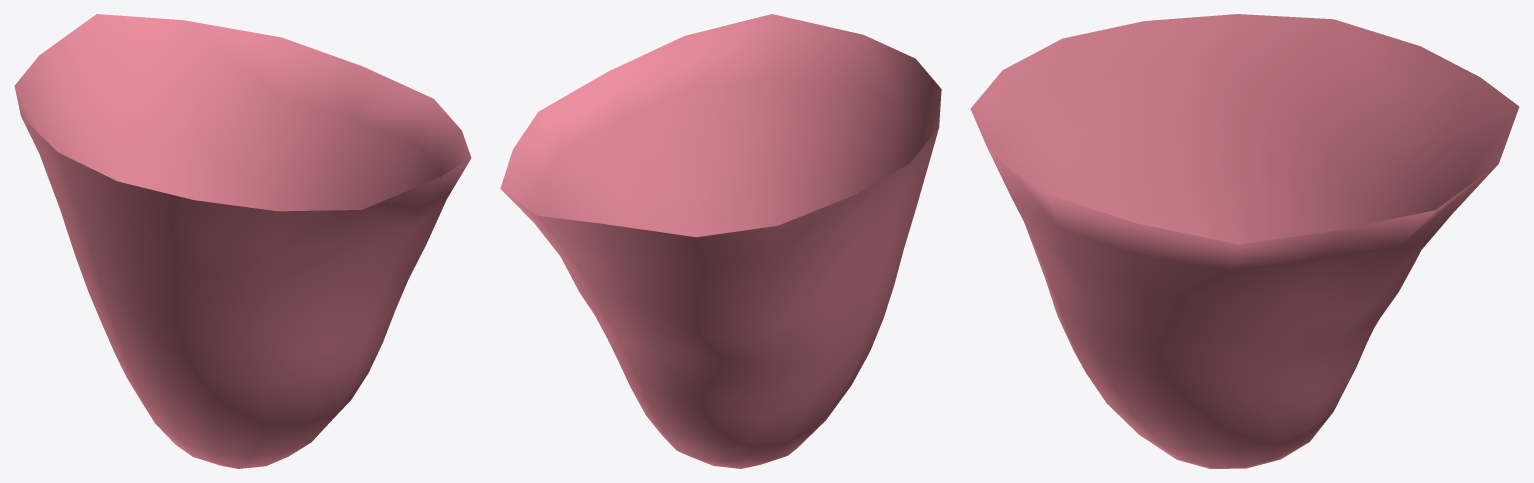
File: piederpat.obj
The picture shows the model from 3 angles, left to right: view 1: azimuth 30°, elevation 25°; view 2: azimuth 150°, elevation 25°; view 3: azimuth 270°, elevation 25°; orthographic projection. The views are drawn at different scales.
Visible parts, largest first — view 1: Object004; view 2: Object004; view 3: Object004.
Boxes of the visible parts, left/top/right/bottom form: Object004: left=14, top=14, right=471, bottom=468; Object004: left=500, top=14, right=941, bottom=468; Object004: left=970, top=14, right=1519, bottom=468.
Bounding box in the file's own units: 1.48 × 1.3 × 1.81.
